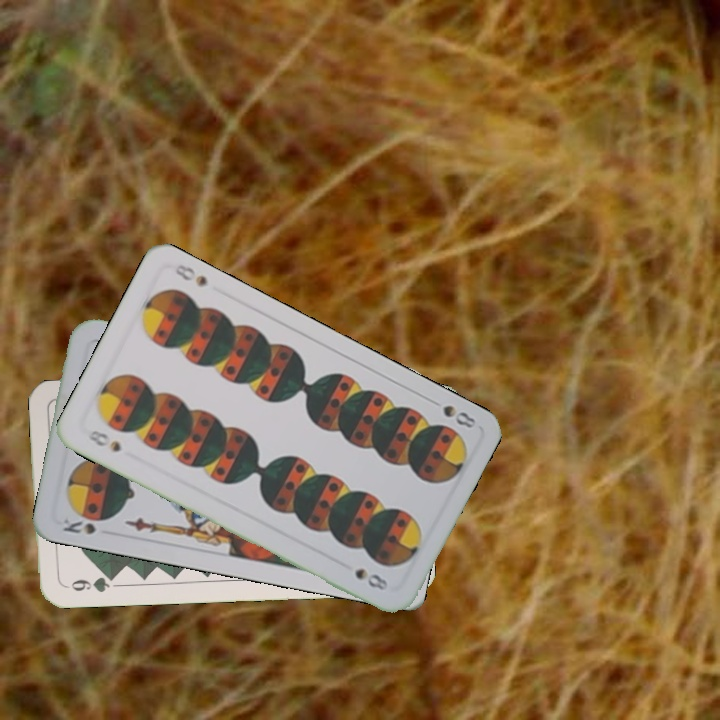G9: (60, 571, 119, 594)
S8: (424, 394, 479, 431), (83, 426, 124, 455)
SK: (59, 514, 98, 537)
